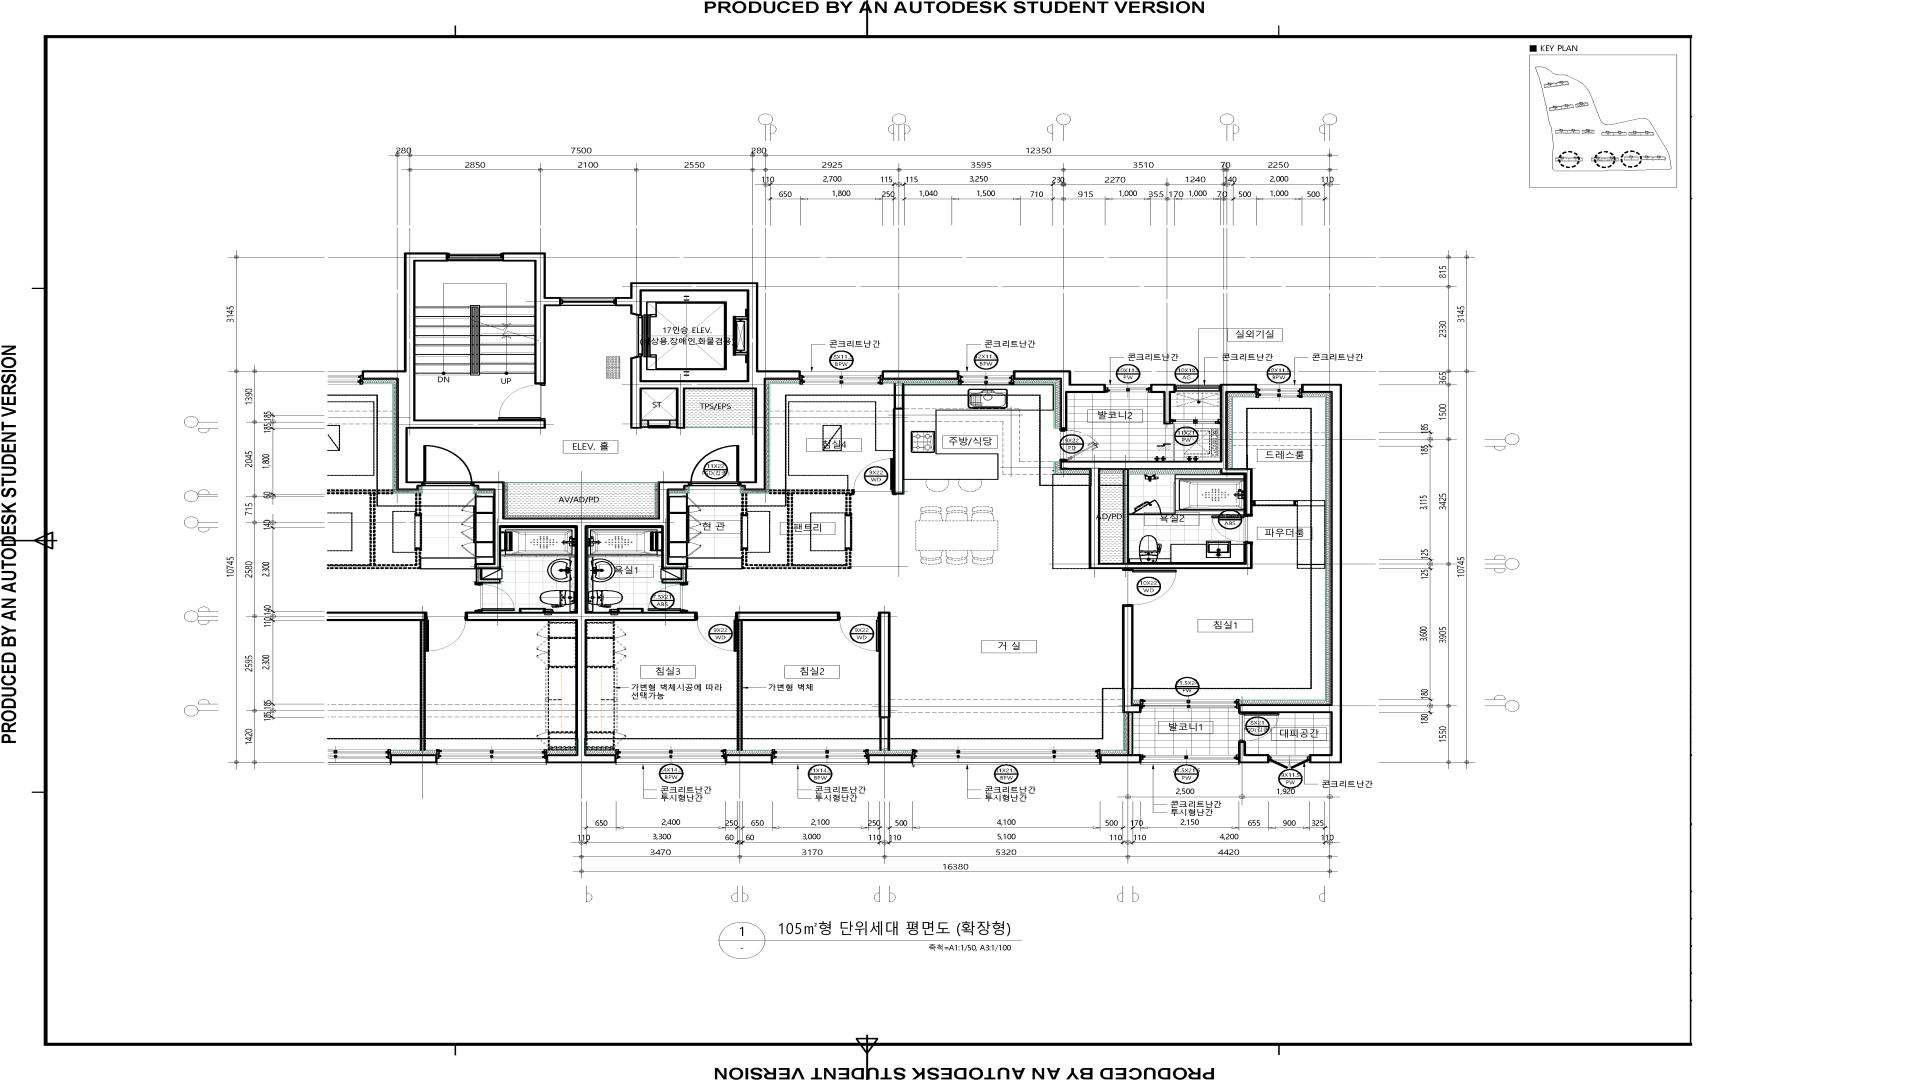door: (690, 444, 740, 489), (1122, 570, 1178, 605), (498, 384, 546, 419), (839, 612, 880, 651), (696, 612, 736, 651), (852, 458, 893, 496), (1059, 430, 1098, 460), (1238, 713, 1280, 741), (1211, 516, 1253, 543), (647, 584, 688, 612), (1270, 754, 1309, 769), (1129, 500, 1162, 516), (1171, 419, 1220, 425)
wall: (464, 481, 696, 764), (361, 252, 546, 491), (1238, 384, 1342, 764), (615, 282, 800, 489), (1060, 384, 1257, 570), (741, 489, 852, 570), (502, 252, 562, 384), (1013, 371, 1106, 430), (1122, 605, 1142, 713), (880, 612, 890, 750), (893, 384, 905, 495), (1150, 384, 1176, 425), (737, 612, 839, 621), (1238, 741, 1270, 764), (737, 621, 742, 750), (1122, 469, 1129, 563), (882, 371, 960, 378), (868, 754, 914, 764), (1100, 754, 1142, 764), (724, 756, 773, 764), (662, 570, 687, 584), (740, 517, 749, 551), (844, 513, 852, 551), (1129, 713, 1133, 756), (741, 493, 748, 517), (669, 419, 676, 427), (642, 419, 649, 427), (1162, 513, 1175, 516)
window: (911, 749, 1101, 760), (615, 749, 727, 760), (1139, 699, 1240, 709), (771, 749, 869, 760), (913, 760, 1101, 765), (799, 375, 884, 385), (957, 375, 1014, 385), (616, 760, 727, 765), (1141, 760, 1240, 765), (771, 760, 869, 765), (1142, 754, 1238, 760), (1255, 388, 1303, 398), (562, 297, 615, 306), (448, 253, 502, 261), (1176, 385, 1220, 392), (1106, 388, 1150, 393), (800, 372, 882, 375), (960, 372, 1013, 375), (1257, 385, 1302, 388), (1106, 385, 1150, 388)
